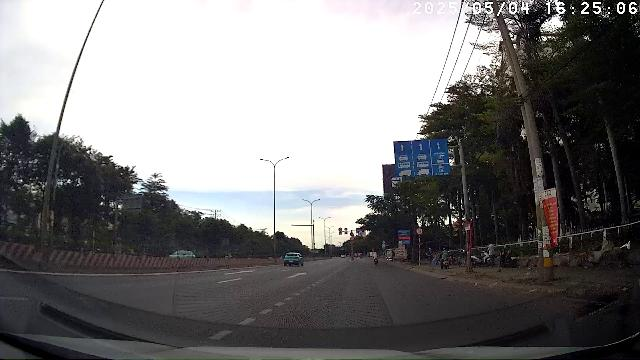127-toc-do-toi-da-50: (416, 227, 424, 235)
